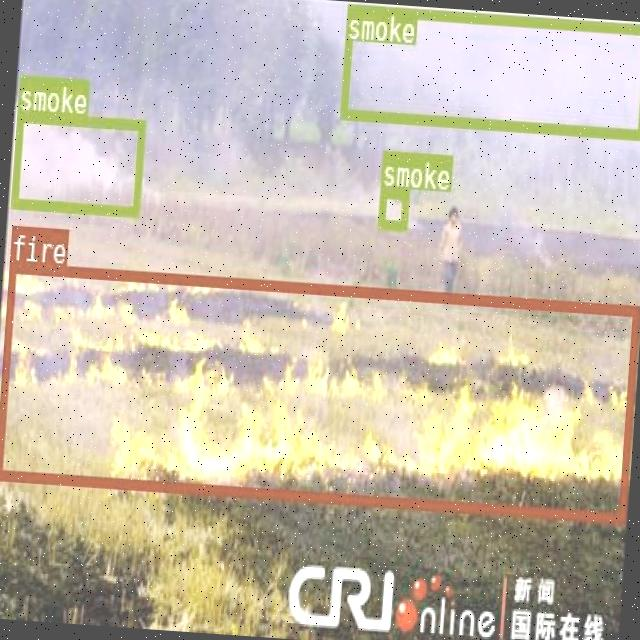fire: (0, 260, 638, 521)
smoke: (338, 2, 640, 138), (10, 108, 144, 215), (377, 186, 408, 228)
